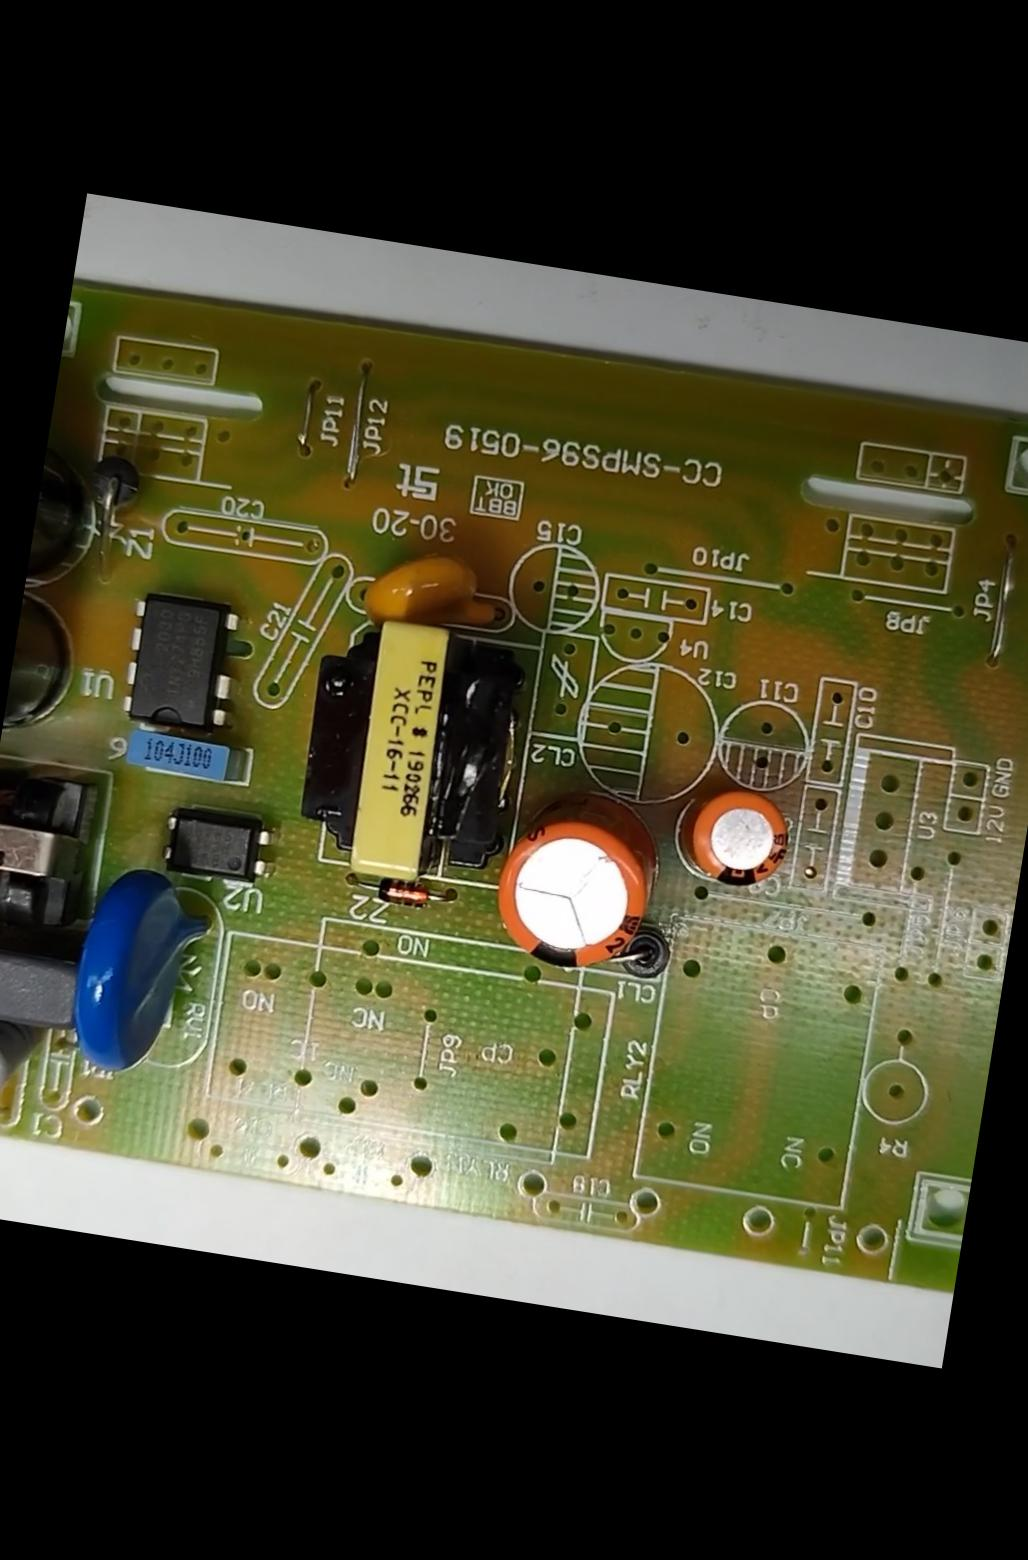Cap1: (486, 811, 665, 980)
Cap2: (683, 780, 793, 895)
Cap3: (0, 574, 83, 748)
Cap4: (25, 421, 107, 588)
MOSFET: (115, 583, 246, 735)
Mov: (63, 864, 215, 1082)
Resistor: (0, 1014, 61, 1115)
Transformer: (286, 607, 534, 892), (0, 760, 98, 938)
